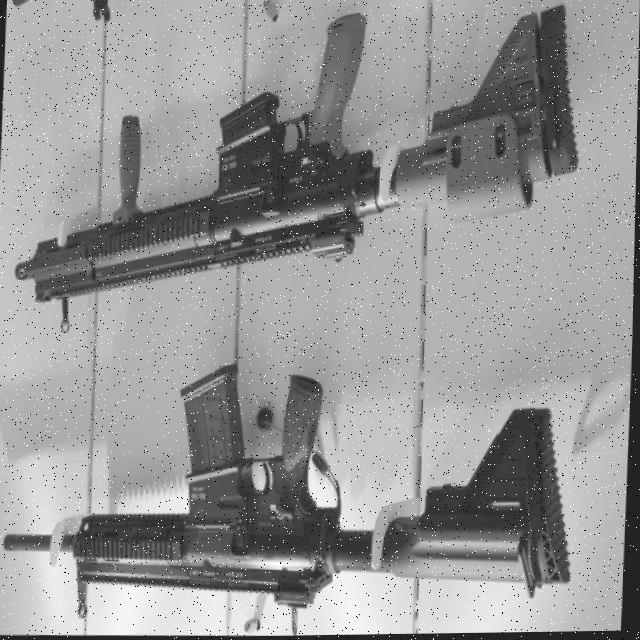firearm: (12, 0, 583, 341), (2, 354, 581, 640)
